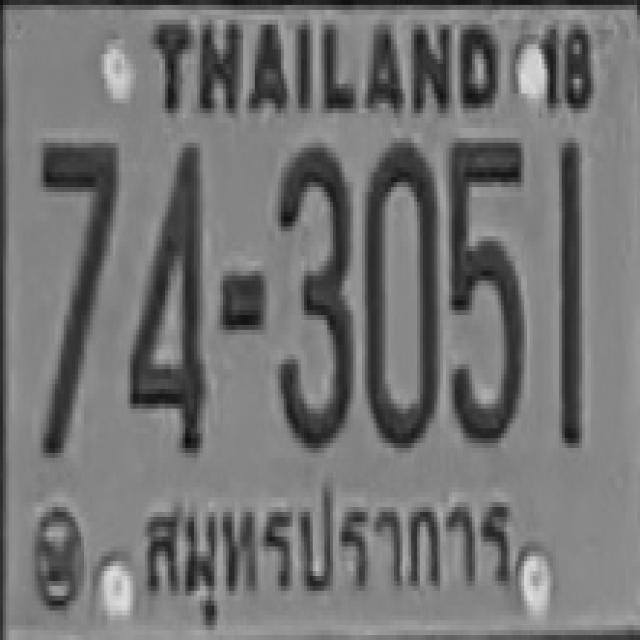0: (360, 138, 436, 443)
1: (558, 140, 580, 446)
3: (275, 143, 351, 443)
4: (126, 138, 201, 448)
5: (446, 136, 524, 444)
7: (38, 138, 116, 453)
SamutPrakan: (150, 476, 520, 614)
